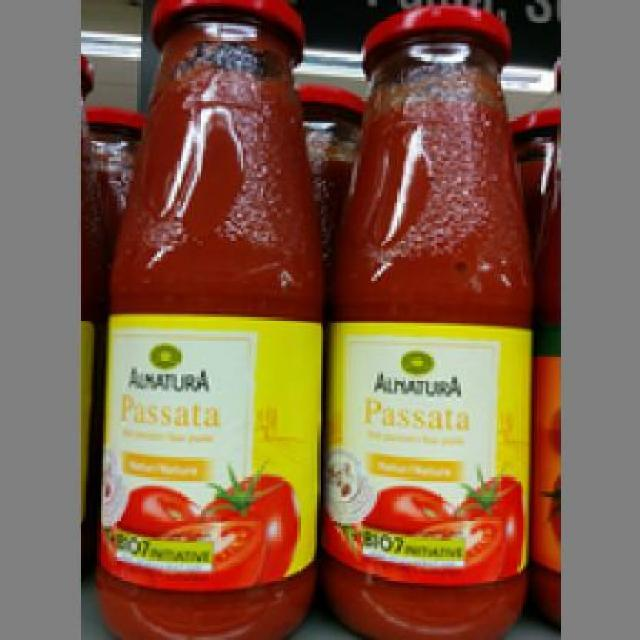Tomato Sauce: (93, 0, 330, 637), (320, 2, 537, 638)
